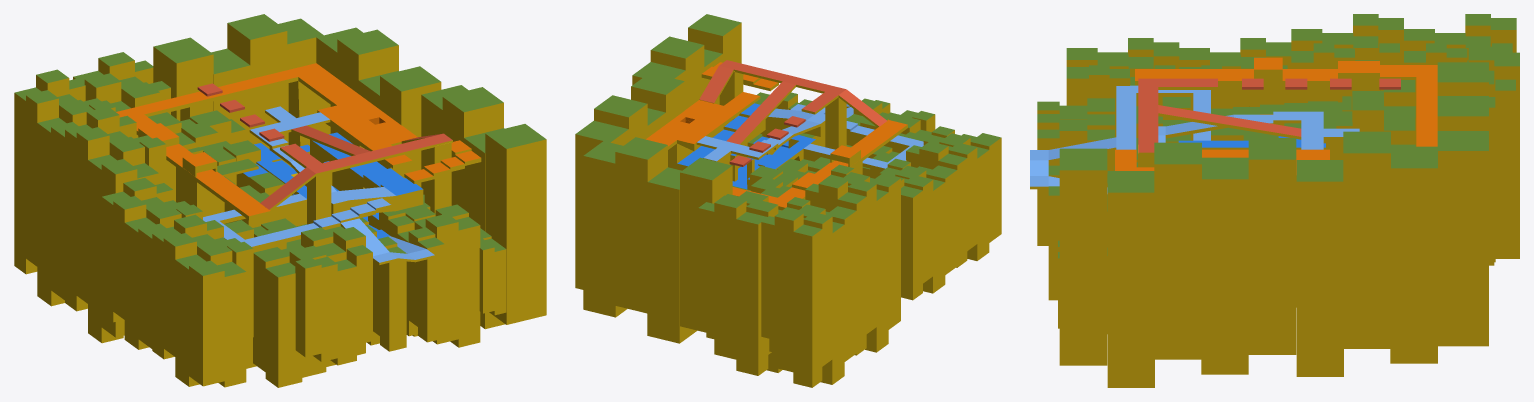
Rendered from basiclevel.obj.
The picture shows the model from 3 angles, left to right: view 1: azimuth 30°, elevation 25°; view 2: azimuth 150°, elevation 25°; view 3: azimuth 270°, elevation 25°; orthographic projection. The views are drawn at different scales.
Size of the model in its own units: 40.11 by 24.44 by 45.02.
1 material, 1 textured.
